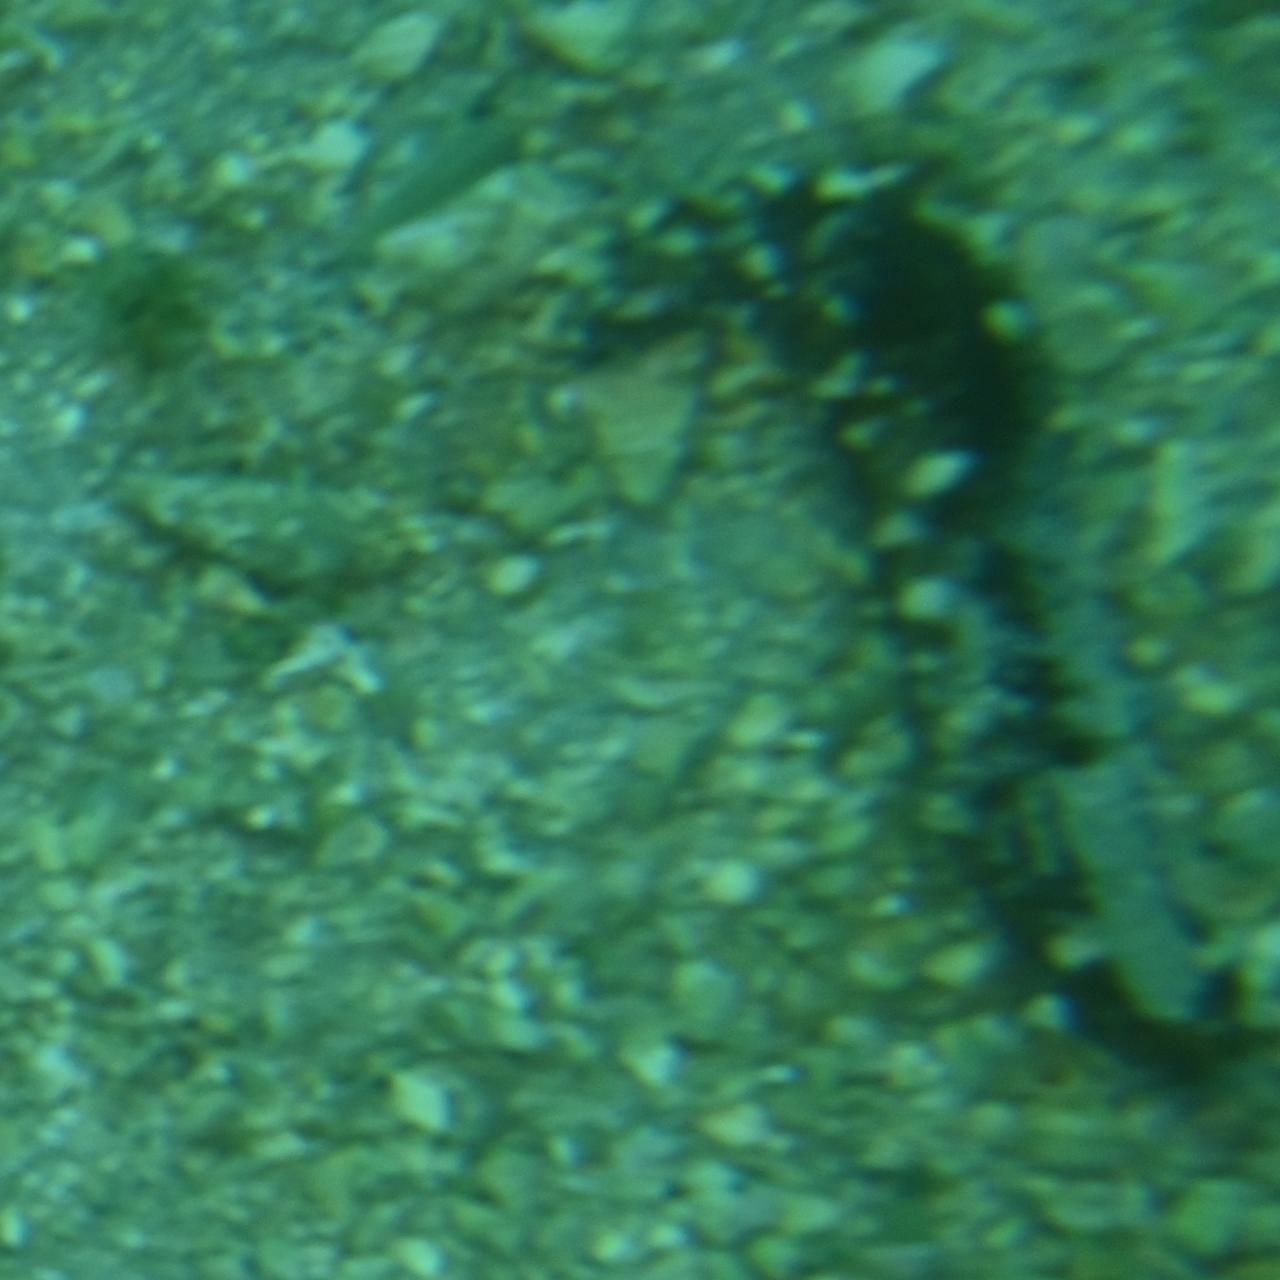Holothuria tubulosa: (519, 177, 1246, 1103)
